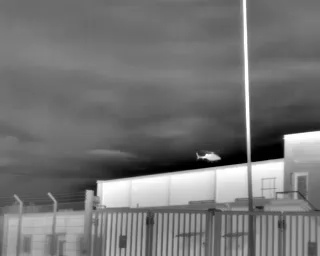HELICOPTER: (189, 143, 233, 167)
